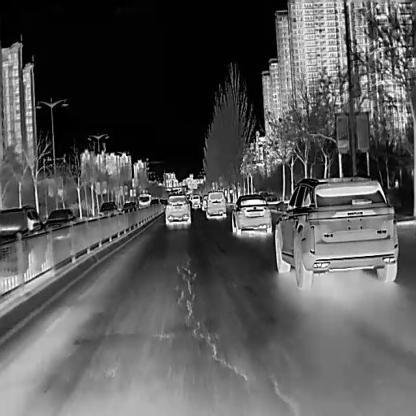car: (274, 175, 398, 289), (0, 204, 47, 276), (228, 193, 271, 234), (44, 208, 78, 237), (163, 193, 191, 224), (202, 189, 226, 217), (98, 200, 119, 218), (120, 200, 137, 217), (137, 191, 151, 210), (191, 193, 200, 208), (201, 194, 207, 210)
